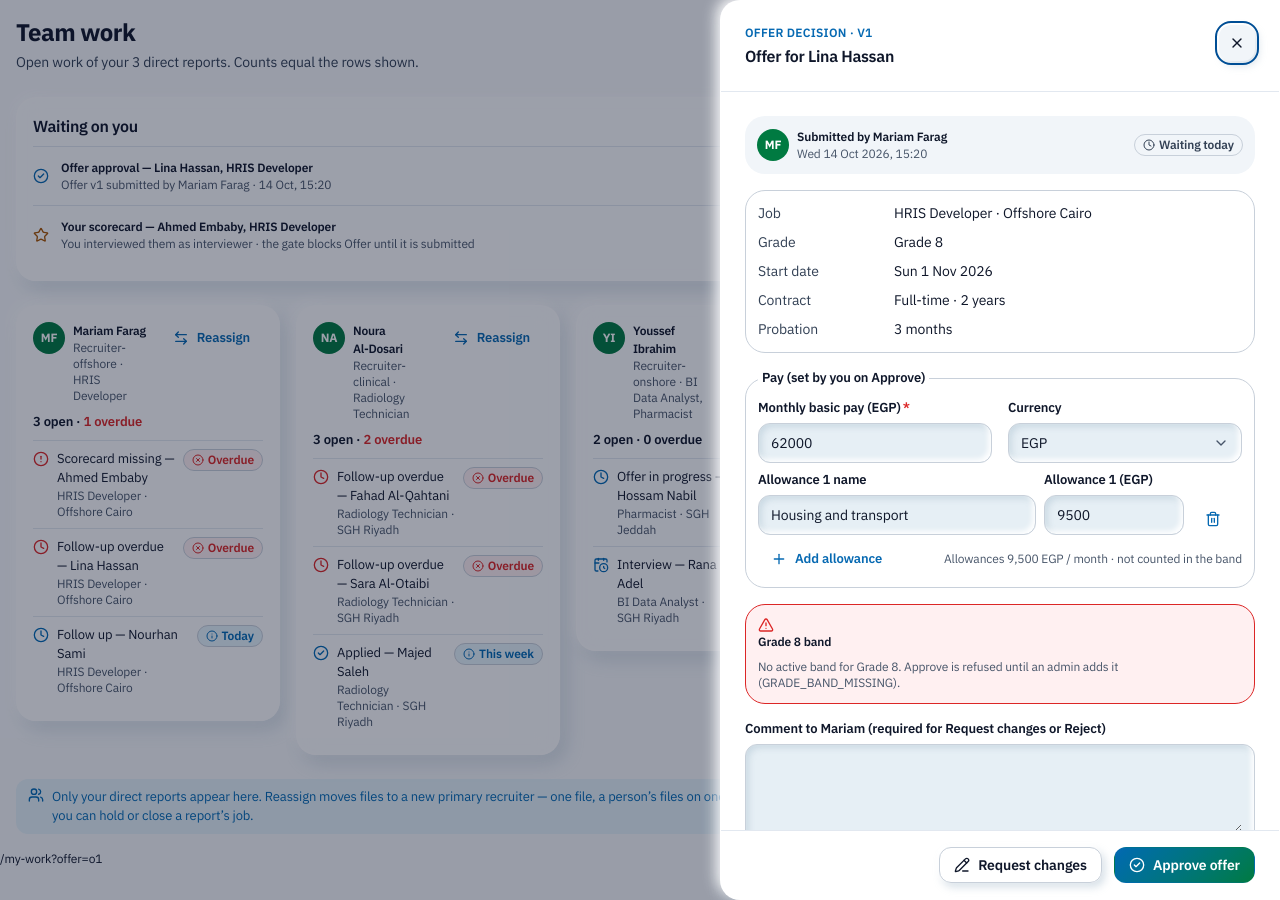
Test case: M3 offer decision (B7) › 409 OFFER_PAY_OUTSIDE_BAND shows the server band + offered pay; 409 GRADE_BAND_MISSING; 403 co-owner
Expected: the text "Submitted by Mariam Farag" is shown, x1=797 y1=129 x2=947 y2=144
Expected: the element named "Pay band" shows "No active band for Grade 8", x1=758 y1=659 x2=1118 y2=690
Click the button "Approve offer".
click(1184, 865)  # box x1=1114 y1=847 x2=1255 y2=883
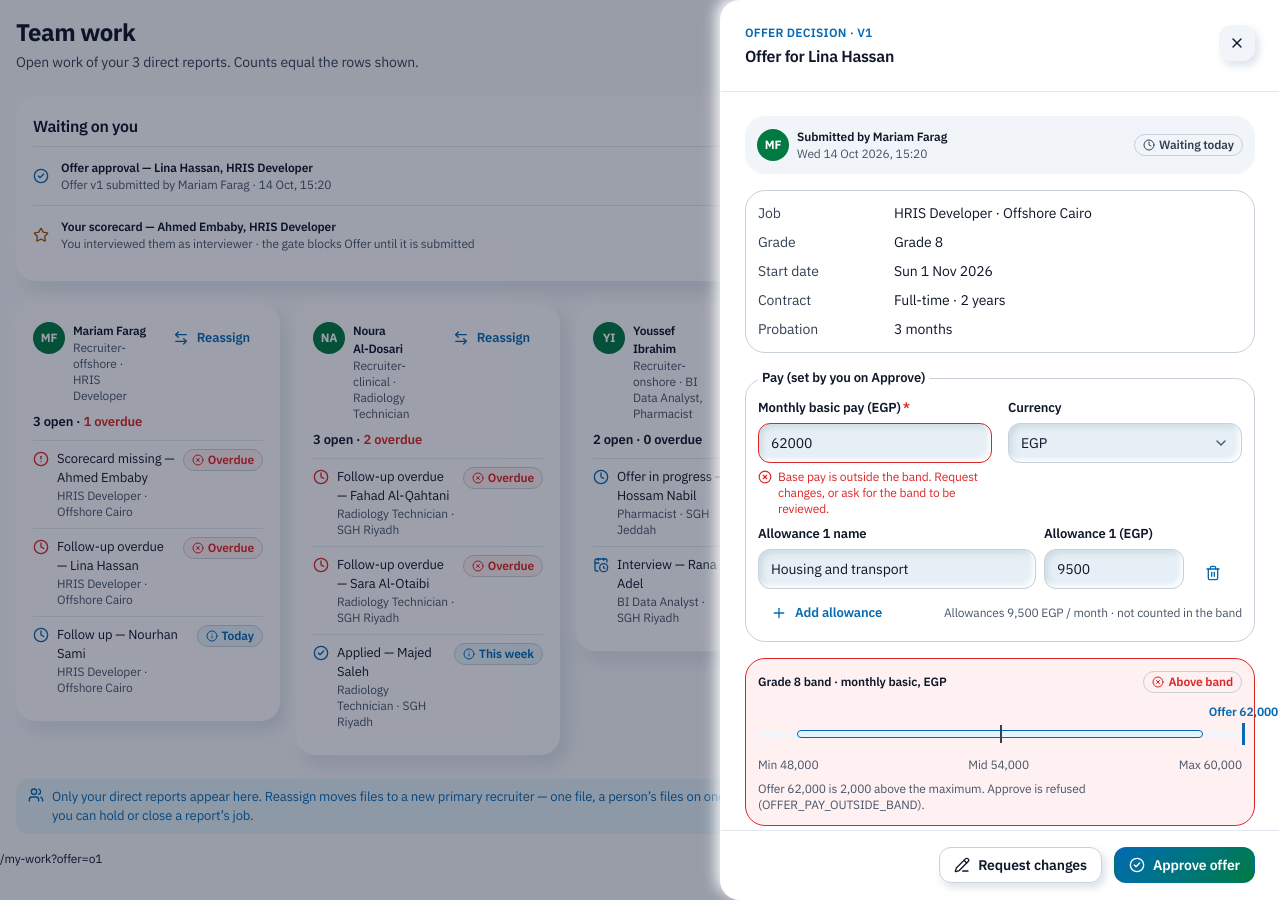
Now the message shows "Base pay is outside the band.", box x1=778 y1=469 x2=978 y2=516
Now the text "Base pay is outside the band." is shown once, box x1=778 y1=469 x2=992 y2=517
Now the element named "Pay band" shows "Above band", box x1=1168 y1=674 x2=1233 y2=689
Click the button "Approve offer".
click(1184, 865)  # box x1=1114 y1=847 x2=1255 y2=883
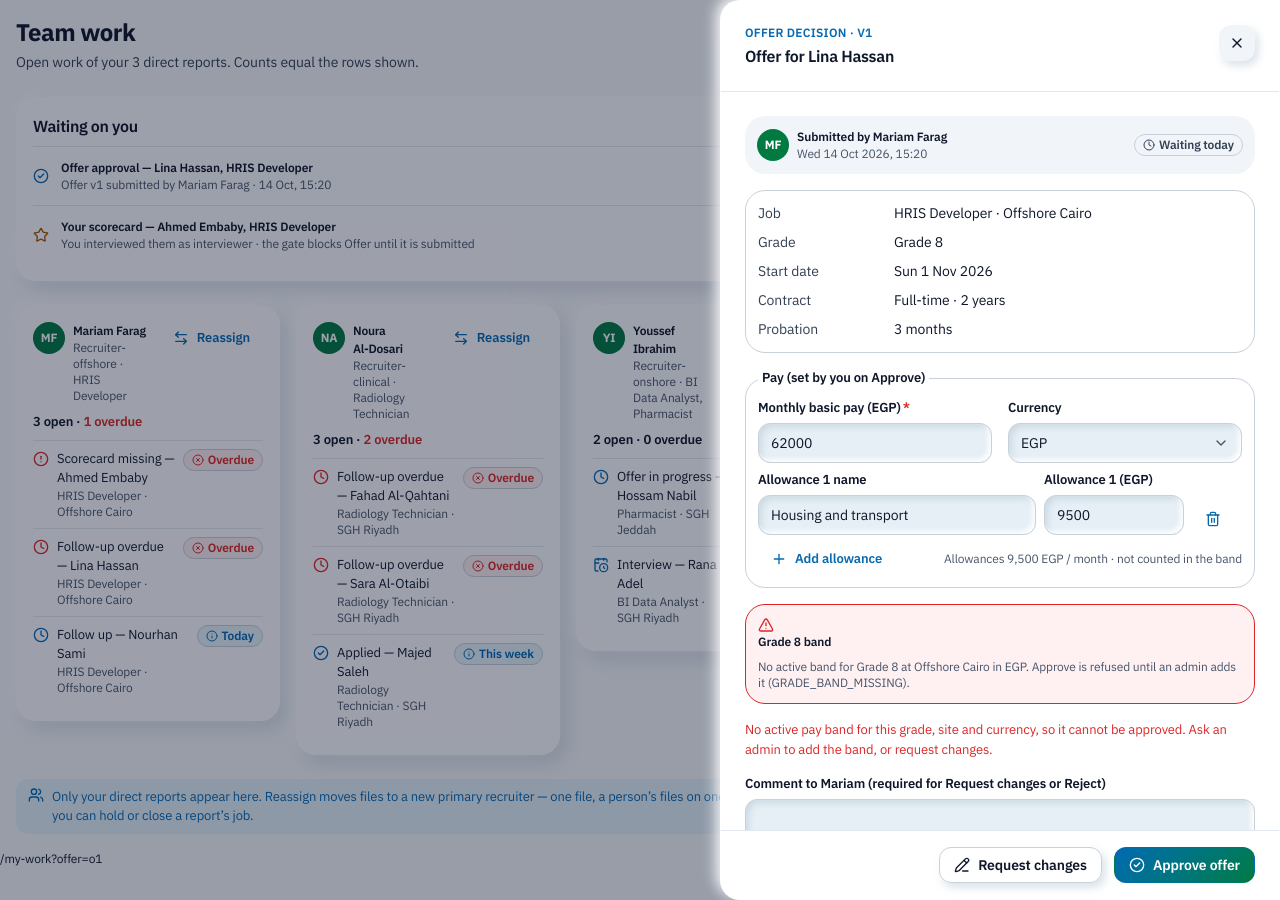
Now the text "No active pay band for this grade, site and currency" is shown, box x1=745 y1=721 x2=1227 y2=758
Now the element named "Pay band" shows "No active band for Grade 8 at Offshore Cairo in EGP. Approve is refused until an admin adds it (GRADE_BAND_MISSING).", box x1=758 y1=659 x2=1236 y2=690
Click the button "Approve offer".
click(1184, 865)  # box x1=1114 y1=847 x2=1255 y2=883
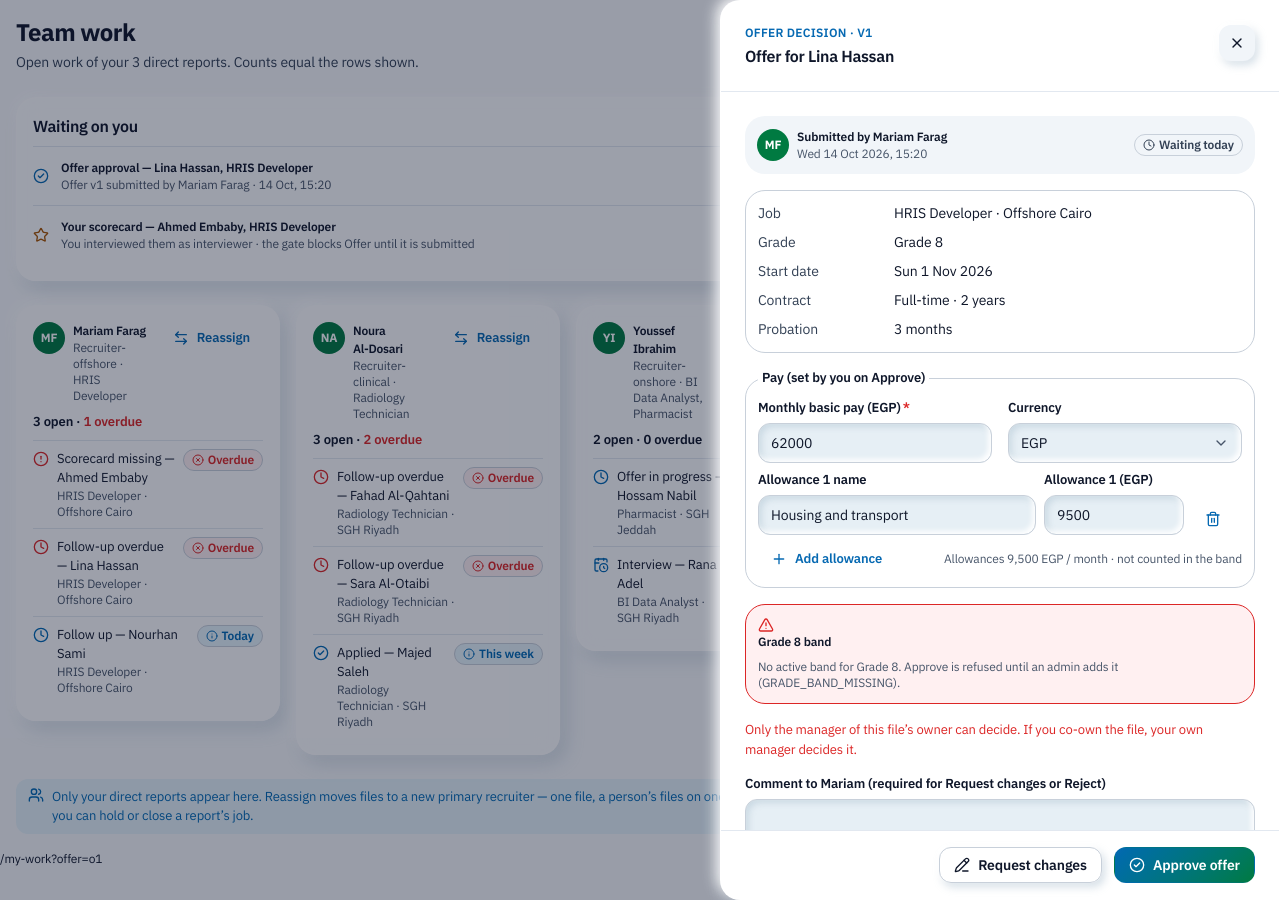
Now the text "Only the manager of this file’s owner can decide. If you co-own the file, your own manager decides it." is shown, box x1=745 y1=721 x2=1203 y2=758
